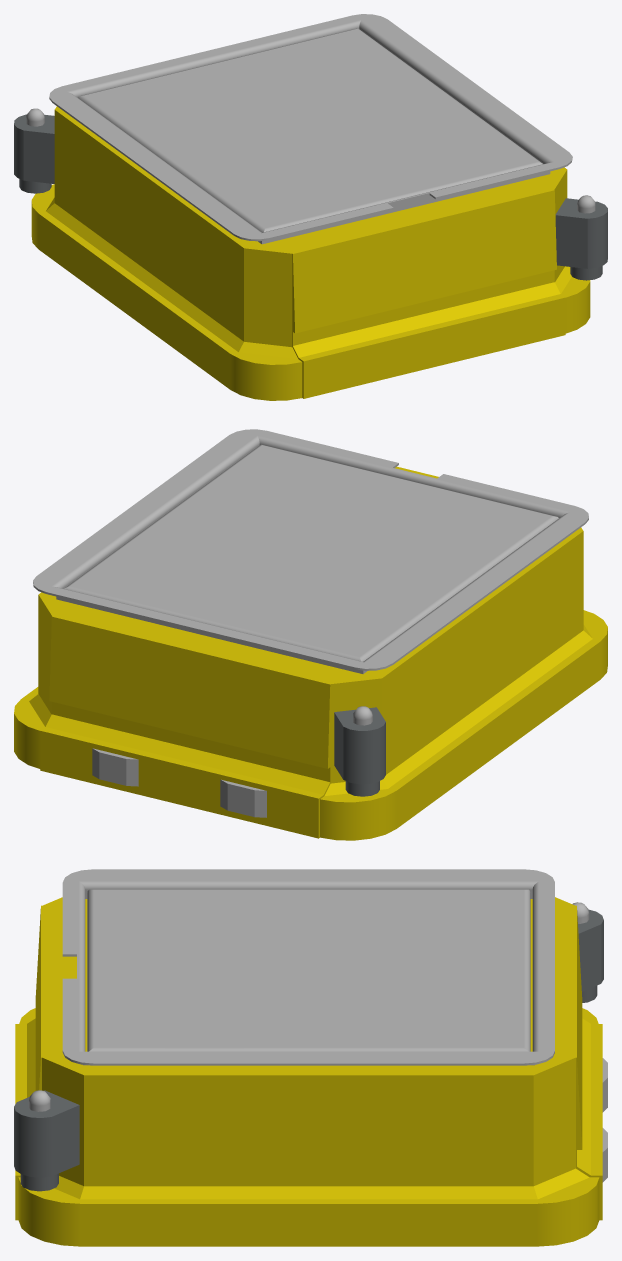
The model's file is ANT-DEF.glb.
The picture shows the model from 3 angles, top to bottom: view 1: azimuth 30°, elevation 25°; view 2: azimuth 150°, elevation 25°; view 3: azimuth 270°, elevation 25°; orthographic projection. The views are drawn at different scales.
Parts seen in each view (by area): view 1: ANT; view 2: ANT; view 3: ANT.
Part boxes in pixels (<box>): ANT: <box>14,14,607,400</box>; ANT: <box>14,429,607,840</box>; ANT: <box>14,869,607,1246</box>.
Size of the model in its own units: 1.21 by 0.506 by 1.45.
